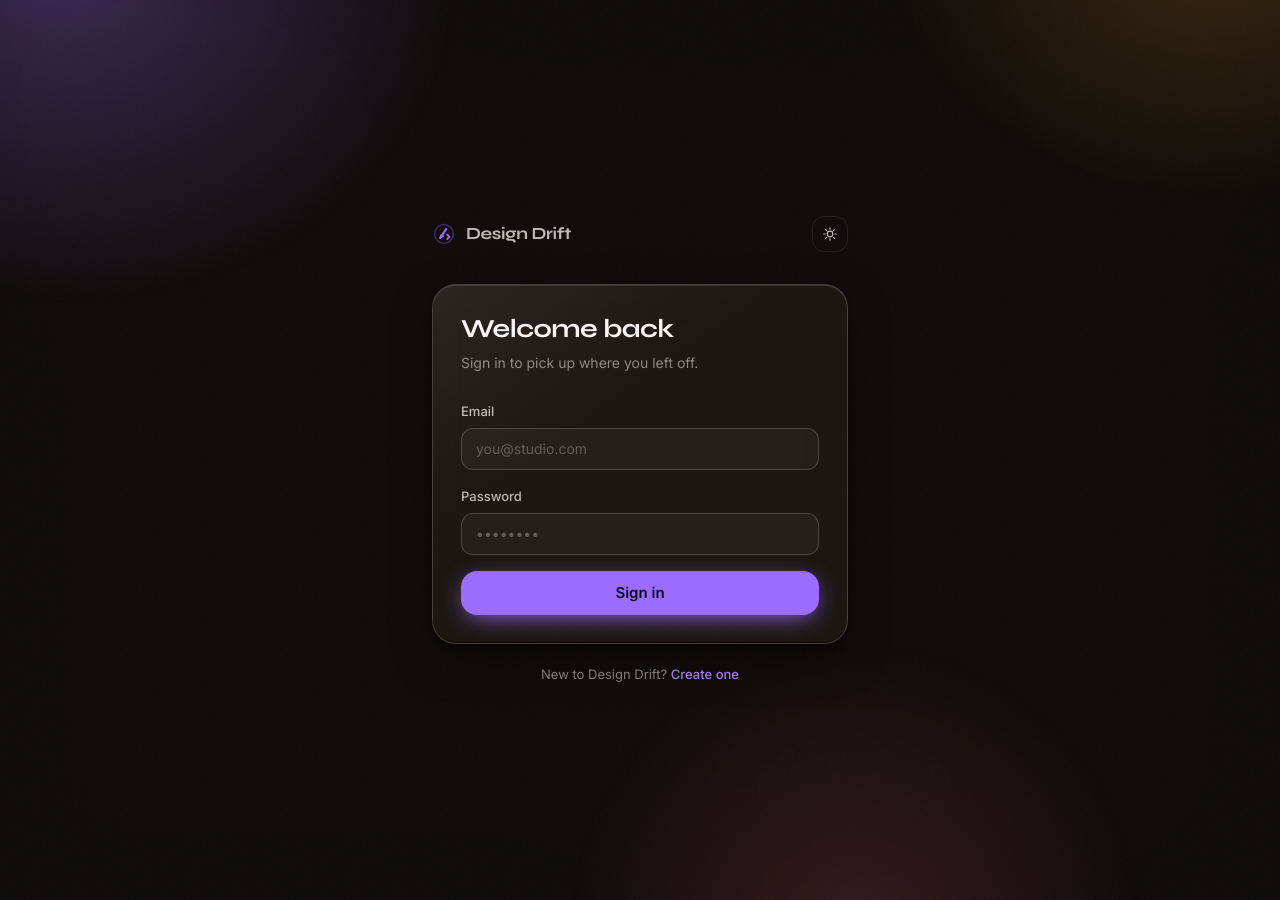
App › switches between login and signup without losing the screen
This screenshot has width=1280, height=900.
What coordinates should you click on to do the following:
click the button "Create one"
I would click on:
 (705, 674)
Its box is [671,664,739,684].
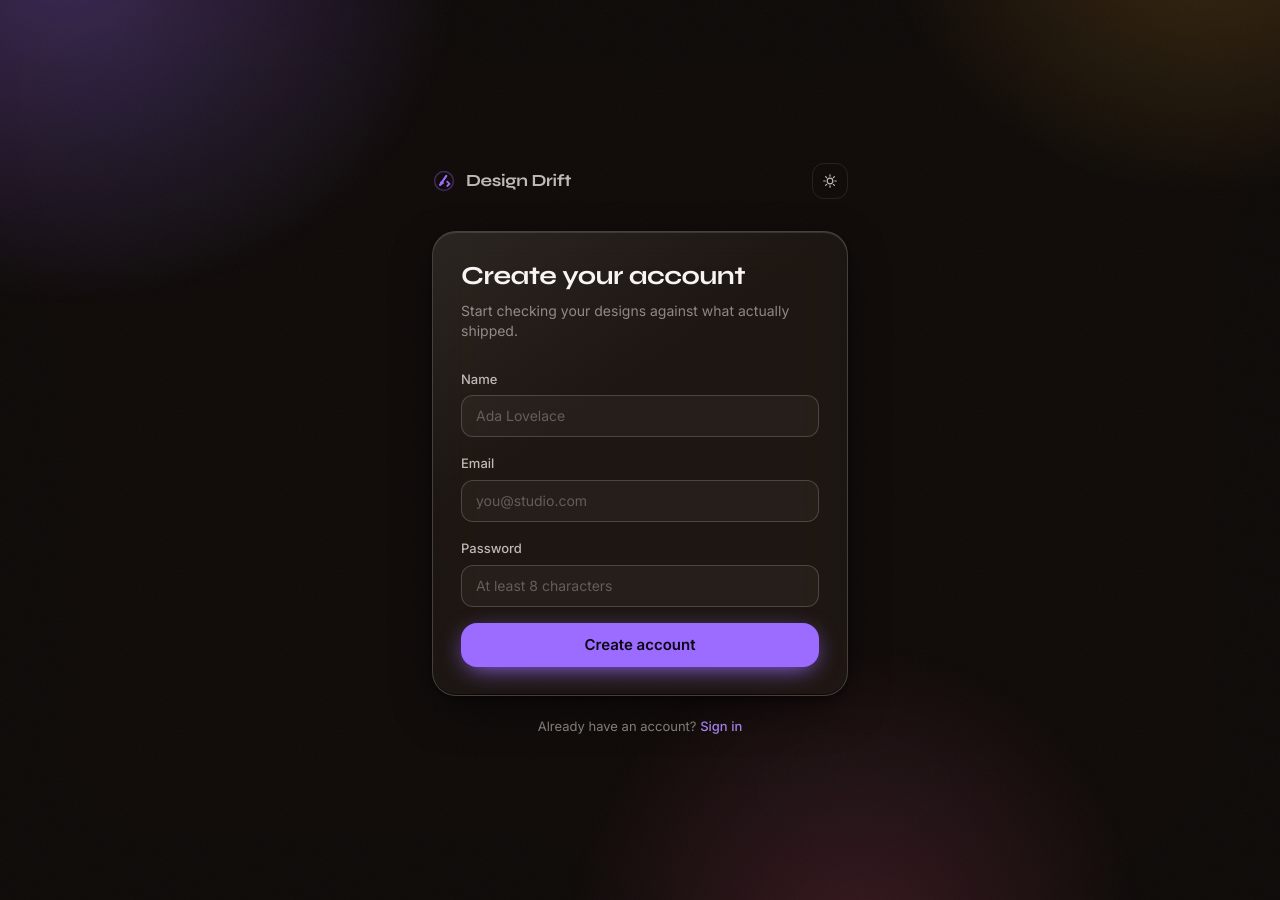
Expected: the field labelled "Name" is shown, [461,396,819,438]
